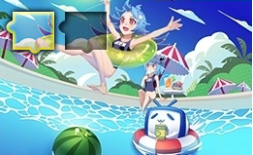gap: (59, 12, 108, 53)
